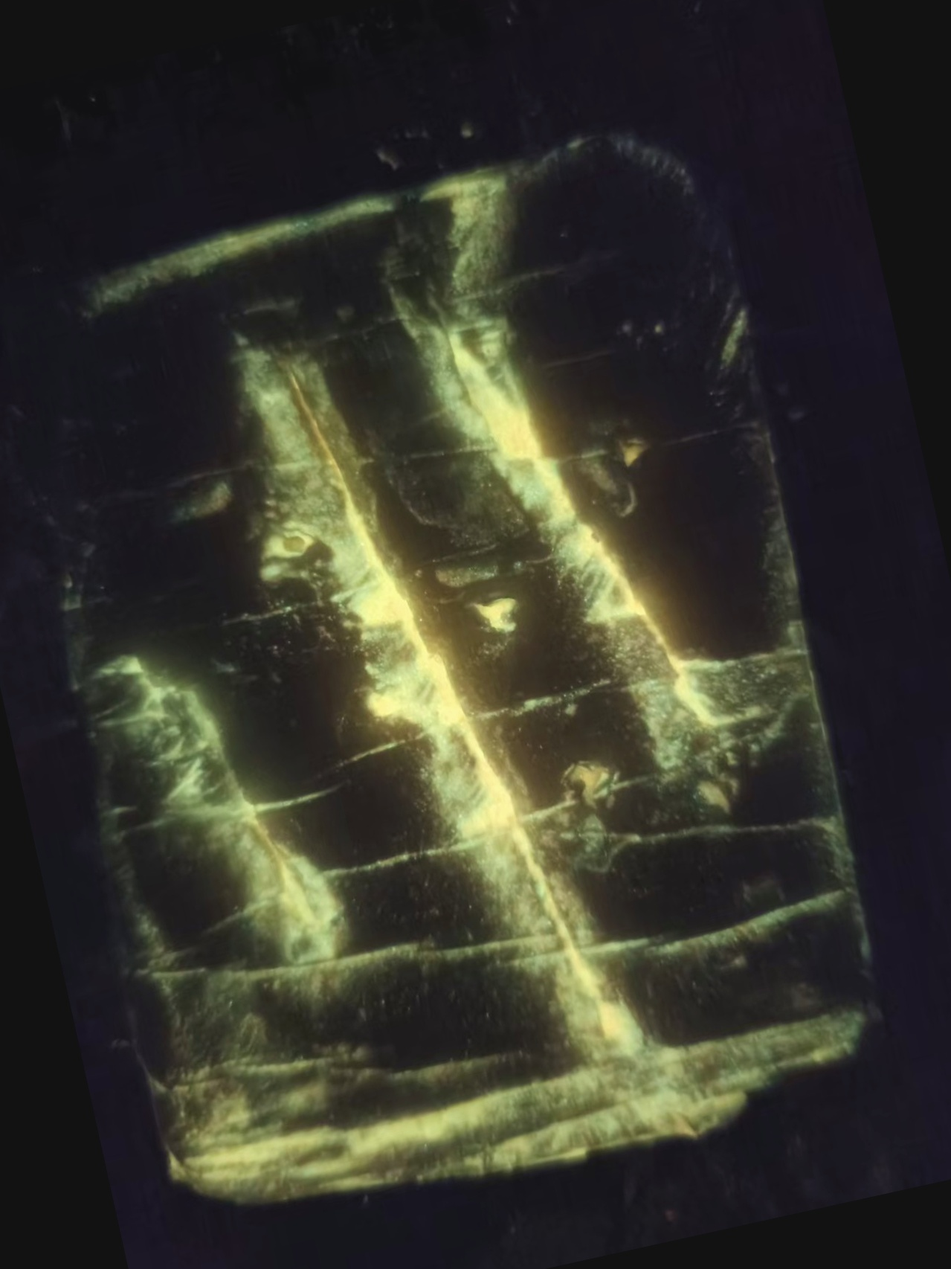Fissure: (215, 272, 671, 1120), (371, 244, 762, 834), (81, 604, 388, 1029)
